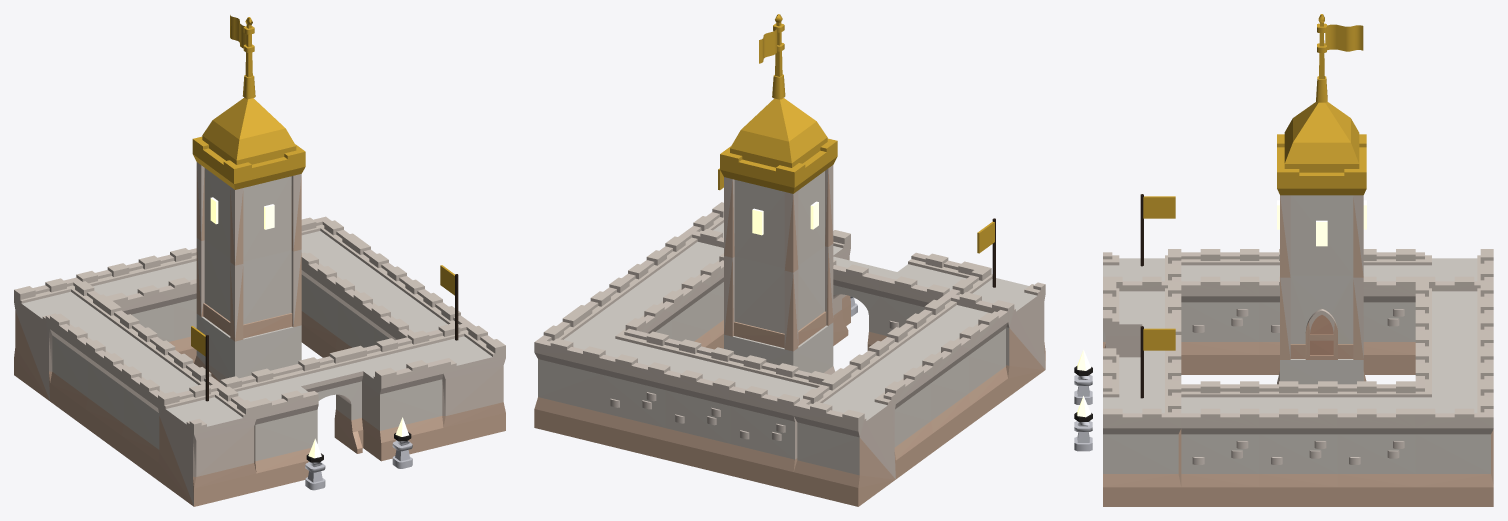
File: keep_l2.glb
The picture shows the model from 3 angles, left to right: view 1: azimuth 30°, elevation 25°; view 2: azimuth 150°, elevation 25°; view 3: azimuth 270°, elevation 25°; orthographic projection. The views are drawn at different scales.
Visible parts, largest first — view 1: keep_l2; view 2: keep_l2; view 3: keep_l2.
Boxes of the visible parts, x1=… form: keep_l2: x1=14, y1=15, x2=505, y2=506; keep_l2: x1=534, y1=14, x2=1045, y2=506; keep_l2: x1=1074, y1=14, x2=1493, y2=506.
Bounding box in the file's own units: 7.36 × 8.52 × 7.9.
